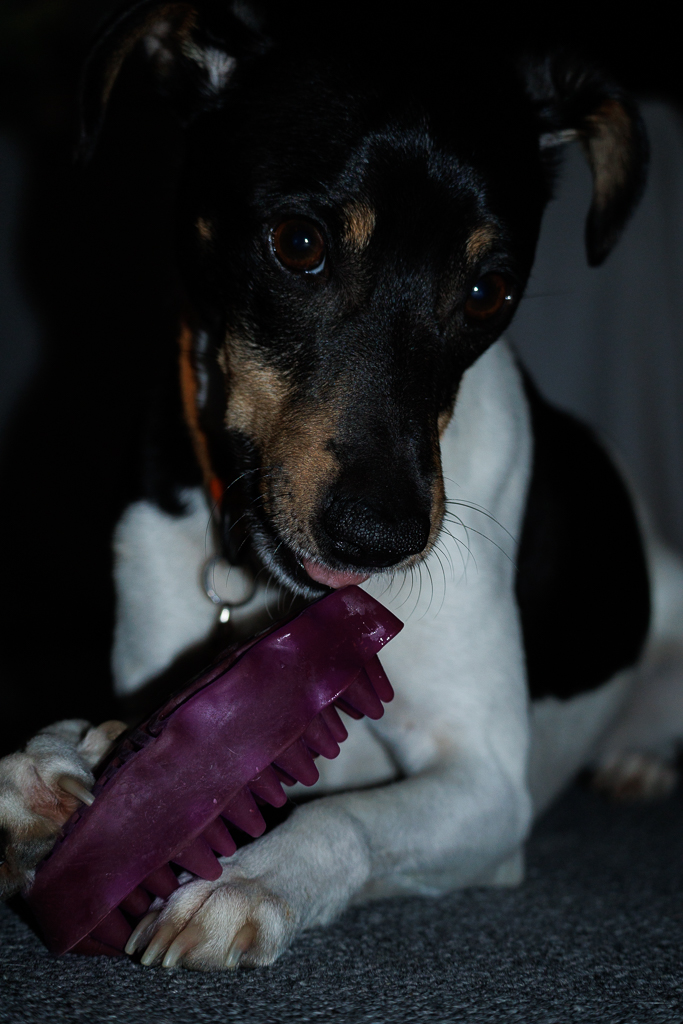Dog: (0, 0, 683, 994)
